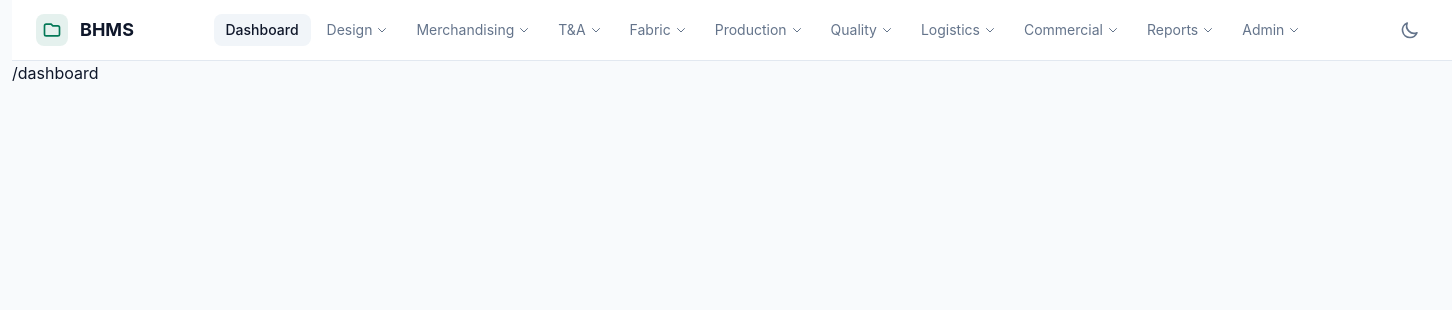
Test: Layout shell › navigates when a dropdown item is selected
Click the button "Design": [357, 30] box [314,14,400,46]
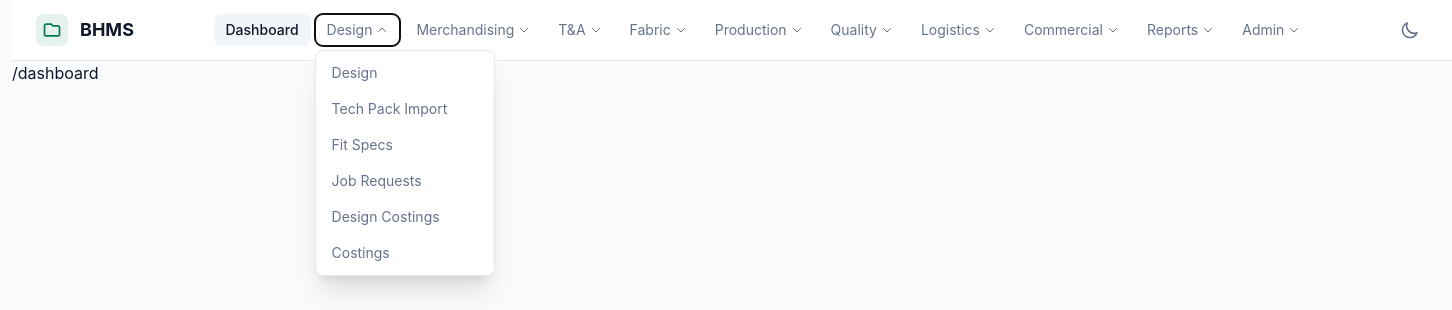
Click the button "Tech Pack Import": [404, 109] box [316,91,494,127]
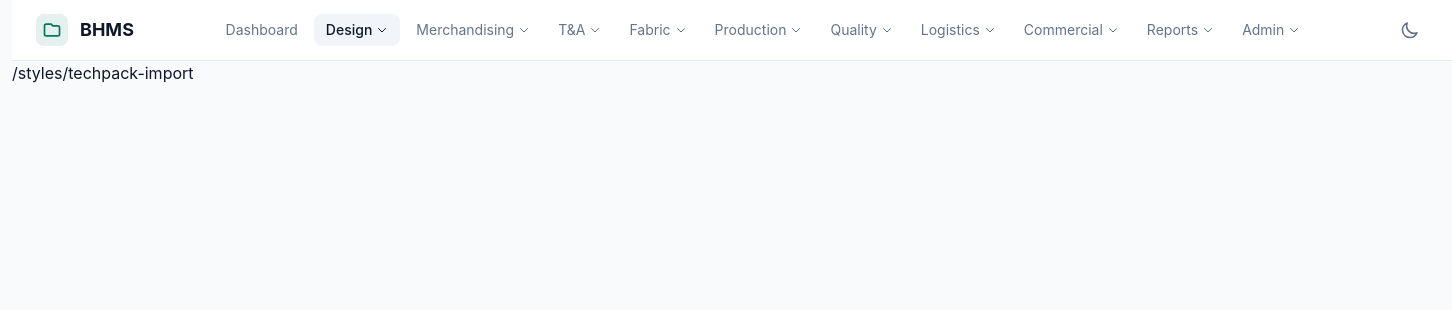
Now the text with test id "path-probe" reads "/styles/techpack-import", box [12,63,194,83]
